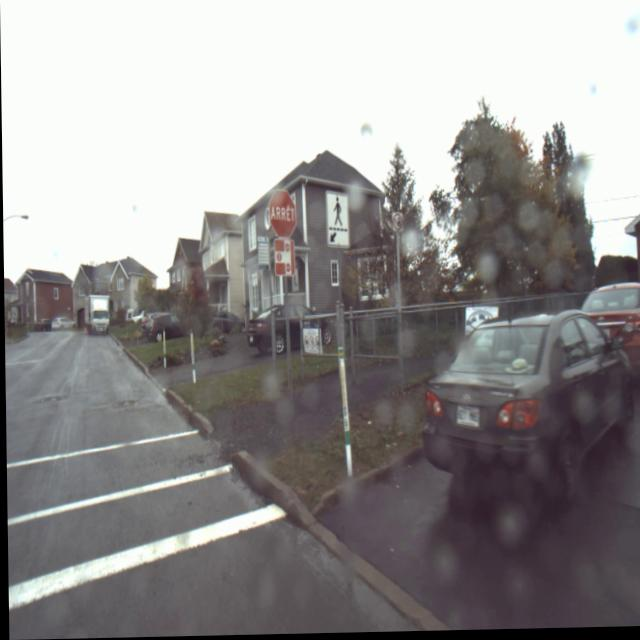truck: (76, 282, 104, 339)
